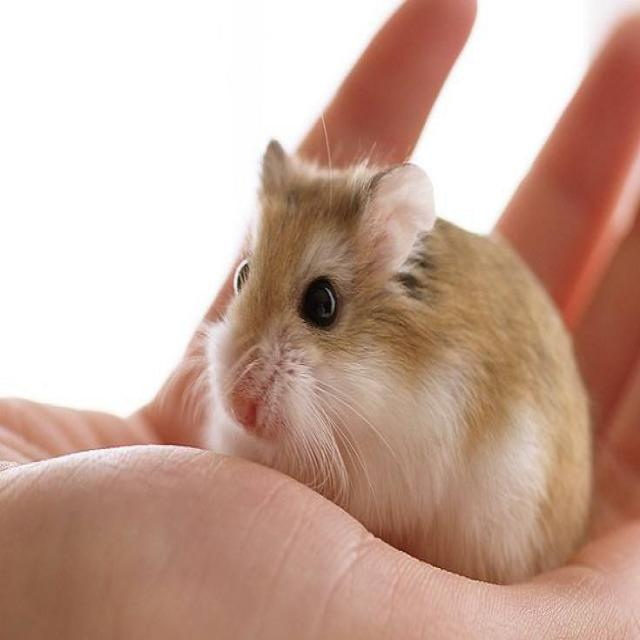hamster: (213, 138, 589, 552)
